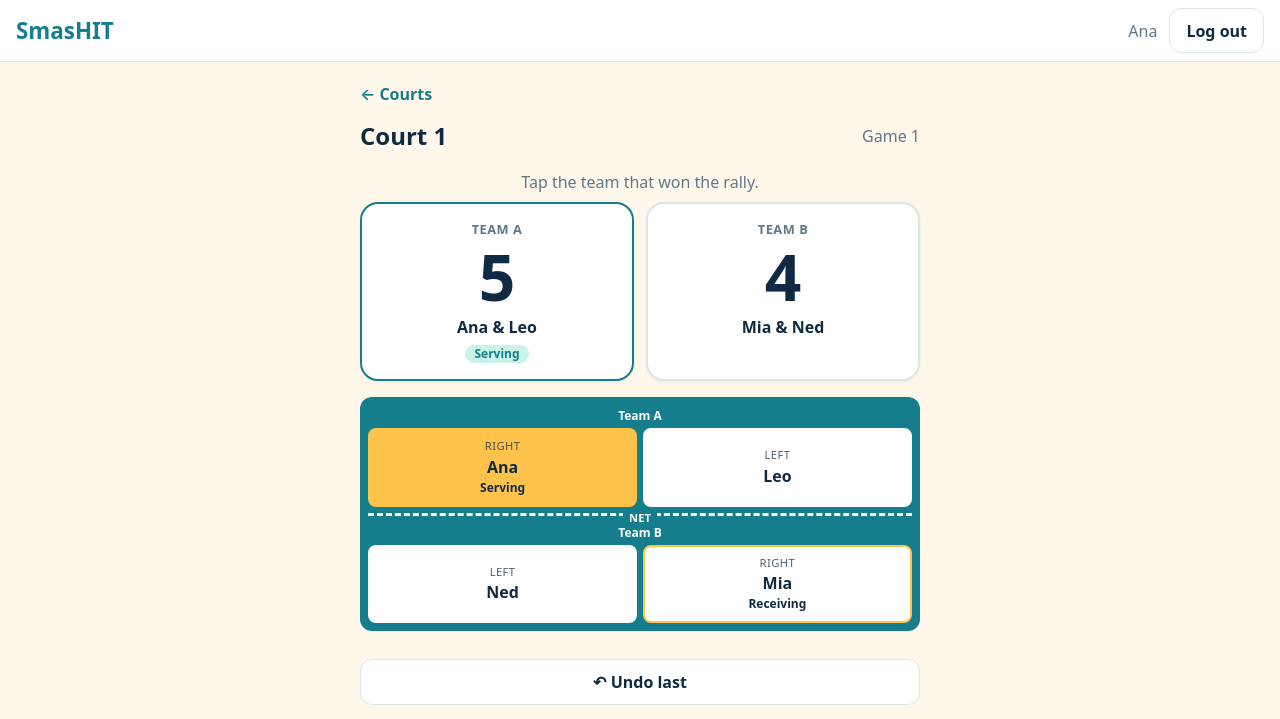
Court screen › shows the backend message when a tap fails
Step 1. Click the button with aria-label "Point to Team A, Ana & Leo" → x=497, y=292, box x1=360 y1=202 x2=634 y2=381
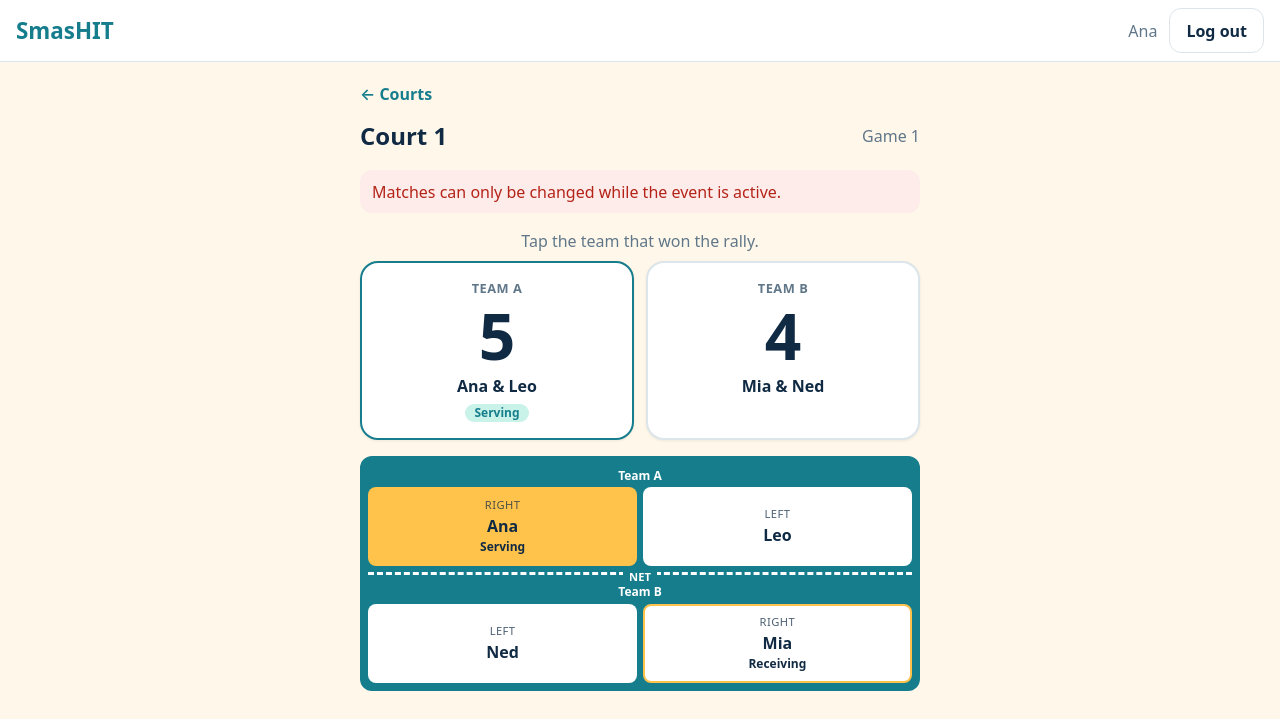
Expected: the button with aria-label "Point to Team A, Ana & Leo" is enabled, x1=360 y1=261 x2=634 y2=440
Expected: the message reads "Matches can only be changed while the event is active.", x1=372 y1=181 x2=781 y2=203
